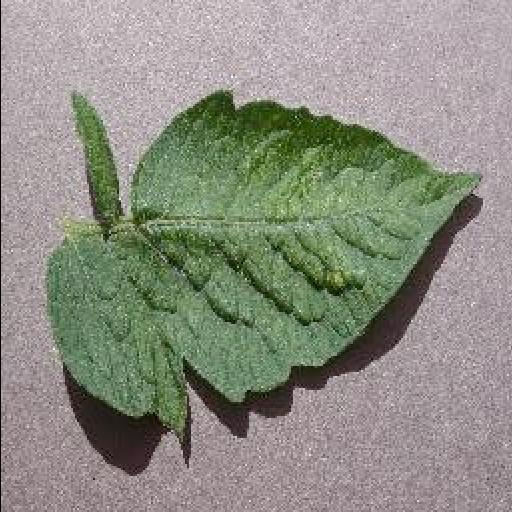disease_tomato: (42, 86, 482, 432)
